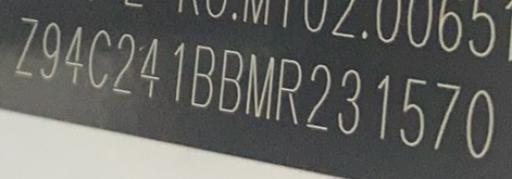letter: (427, 79, 467, 152), (397, 75, 431, 152), (242, 51, 278, 120), (466, 85, 498, 160), (366, 73, 400, 142), (274, 57, 306, 128), (304, 64, 336, 131), (187, 41, 219, 104), (218, 47, 248, 112), (337, 68, 367, 131), (12, 15, 40, 76), (86, 27, 114, 88), (38, 21, 66, 81), (112, 33, 140, 92), (138, 34, 162, 97), (62, 25, 86, 83), (166, 40, 188, 103)
